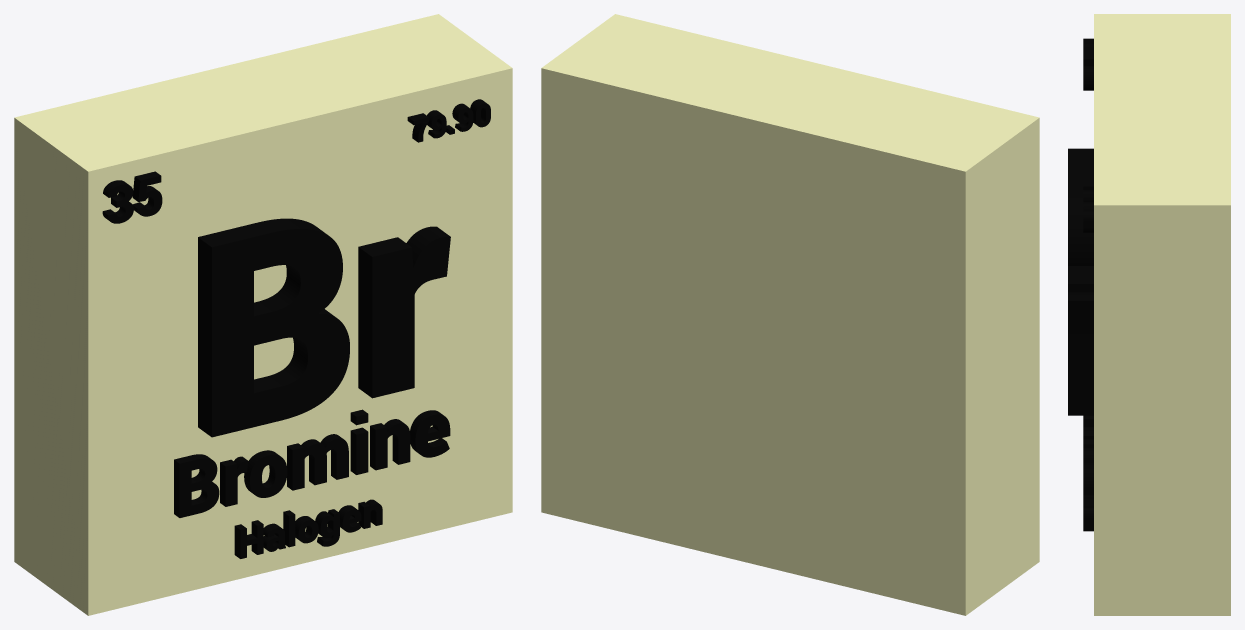
The picture shows the model from 3 angles, left to right: view 1: azimuth 30°, elevation 25°; view 2: azimuth 150°, elevation 25°; view 3: azimuth 270°, elevation 25°; orthographic projection. The views are drawn at different scales.
Visible parts, largest first — view 1: Cube, Text, Text.001, Text.002, Text.003, Text.004; view 2: Cube; view 3: Cube, Text, Text.001, Text.004, Text.003, Text.002.
Part boxes in pixels (bbox=[...]): Cube: bbox=[14, 14, 512, 615]; Text: bbox=[198, 218, 450, 437]; Text.001: bbox=[174, 409, 450, 517]; Text.002: bbox=[234, 499, 382, 558]; Text.003: bbox=[102, 171, 162, 223]; Text.004: bbox=[407, 99, 490, 142]; Cube: bbox=[541, 14, 1039, 615]; Cube: bbox=[1094, 14, 1230, 615]; Text: bbox=[1068, 148, 1093, 415]; Text.001: bbox=[1083, 415, 1093, 506]; Text.004: bbox=[1083, 179, 1093, 232]; Text.003: bbox=[1083, 38, 1093, 90]; Text.002: bbox=[1083, 507, 1093, 531].
Size of the model in its own units: 178 by 178 by 63.95.
